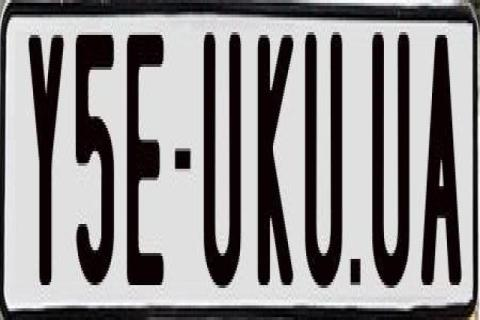0: (73, 29, 116, 291)
A: (419, 27, 462, 280)
E: (124, 26, 160, 276)
K: (257, 29, 293, 294)
U: (369, 29, 411, 291), (204, 26, 244, 300), (306, 32, 344, 302)
Y: (28, 26, 68, 276)
